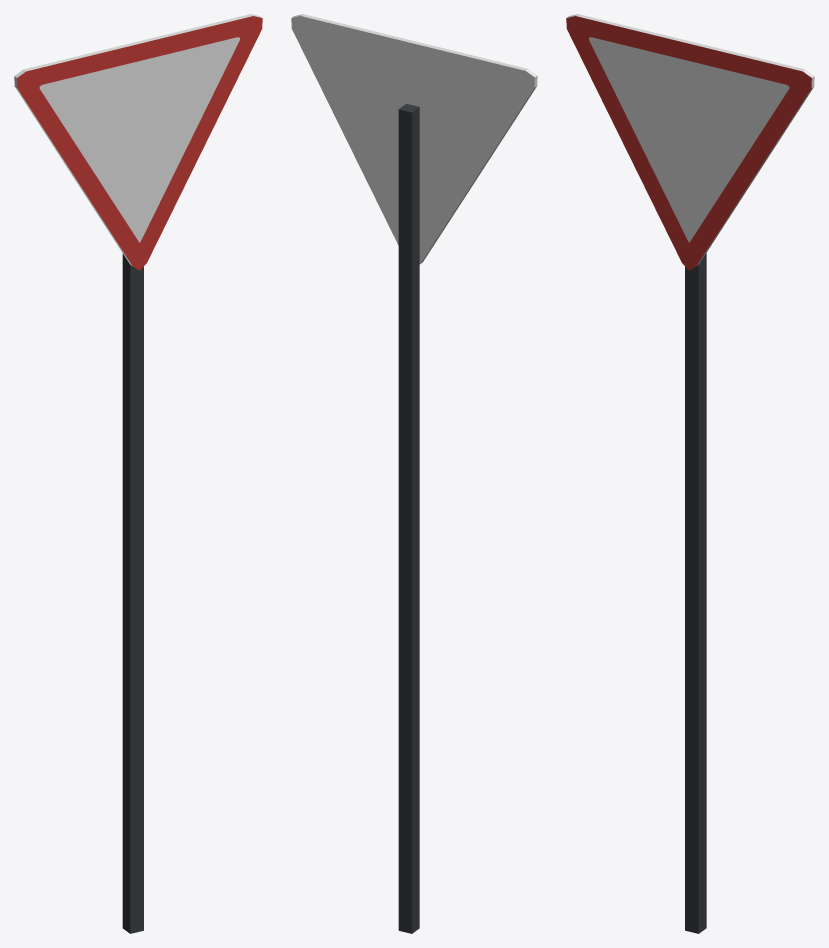
File: SM_FloorProps_RoadSign_10.fbx
3 renders of one model, left to right at view 1: azimuth 30°, elevation 25°; view 2: azimuth 150°, elevation 25°; view 3: azimuth 330°, elevation 25°, orthographic.
Parts seen in each view (by area): view 1: SM_FloorProps_RoadSign_10; view 2: SM_FloorProps_RoadSign_10; view 3: SM_FloorProps_RoadSign_10.
Boxes of the visible parts, x1,y1,x2,y2 form: SM_FloorProps_RoadSign_10: (14, 14, 262, 933); SM_FloorProps_RoadSign_10: (291, 14, 537, 933); SM_FloorProps_RoadSign_10: (566, 14, 814, 933).
Size of the model in its own units: 0.7755 by 2.69 by 0.0579.
